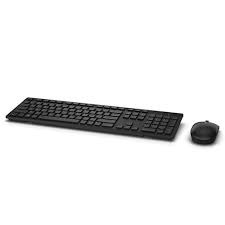keyboard: (3, 92, 183, 148)
mouse: (187, 115, 220, 151)
